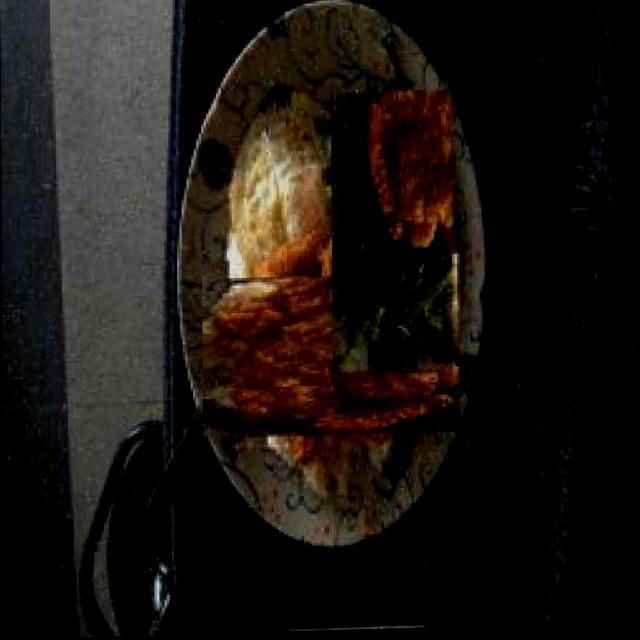fried_chicken: (221, 237, 441, 460)
fried_eggs: (229, 89, 353, 280)
water_spinach: (331, 92, 455, 375)
